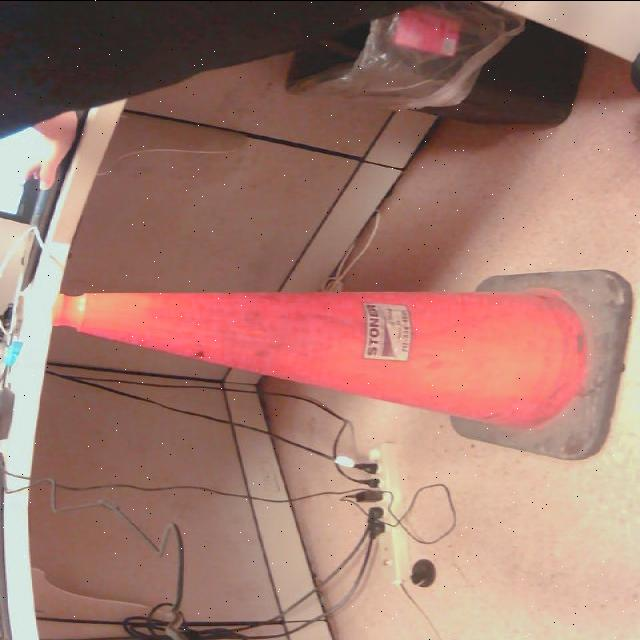traffic cone: (54, 267, 637, 461)
